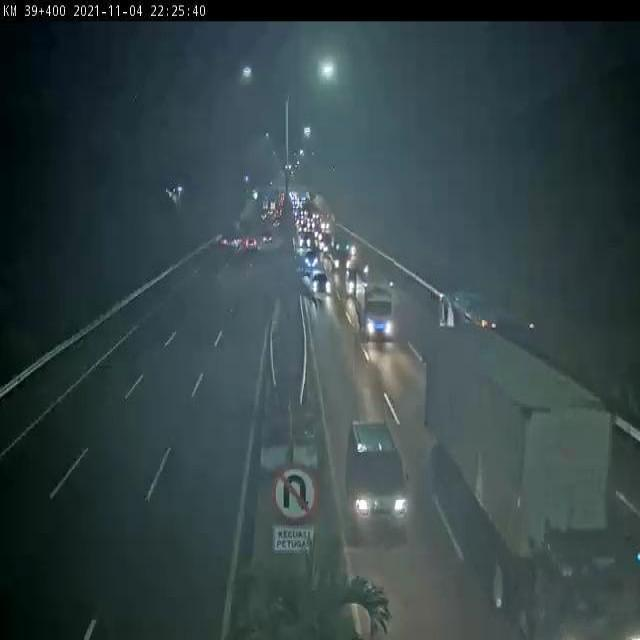car: (344, 421, 410, 539), (243, 231, 263, 257), (311, 265, 329, 292)
truck: (426, 329, 629, 640), (435, 288, 527, 325), (349, 277, 396, 340)
